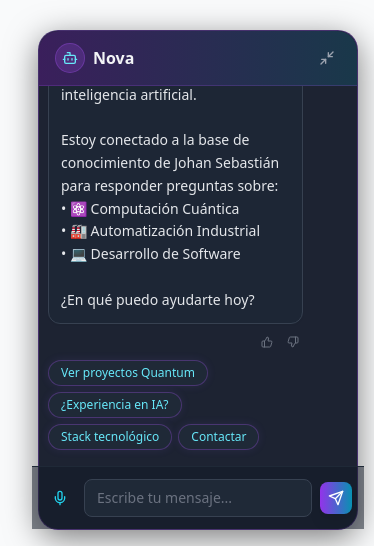
Test: ChatBot › should handle minimize/maximize
(page scrolled)
Click the button named "Minimizar chat": (327, 58) [313, 44, 341, 72]
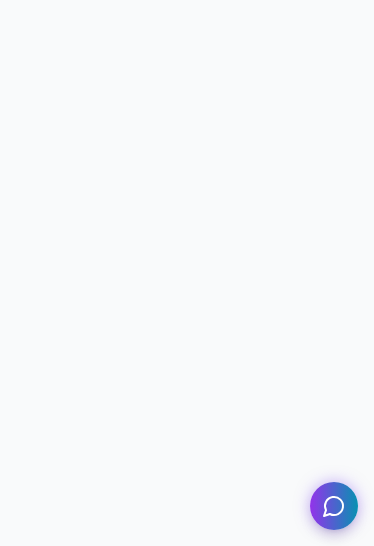
Expected: the field with placeholder "Escribe tu mensaje..." is not shown
Click the button: (334, 506) [310, 482, 358, 530]
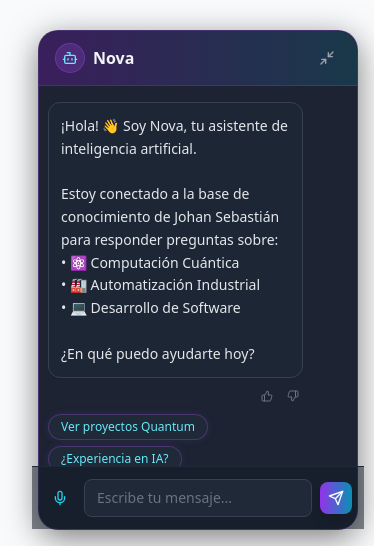
Result: the field with placeholder "Escribe tu mensaje..." is shown at [84, 479, 312, 517]
